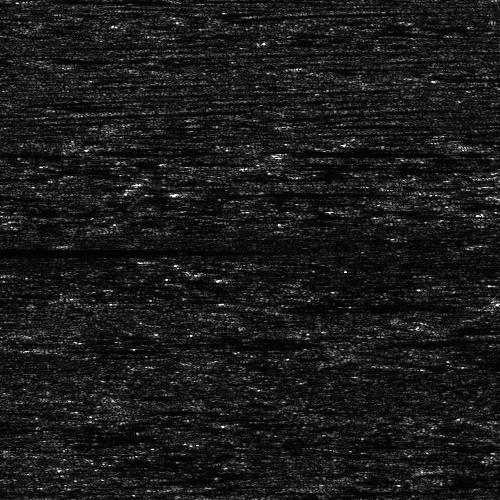rock: (19, 344, 92, 353), (154, 187, 207, 196), (247, 144, 288, 155), (247, 300, 288, 309), (485, 190, 500, 199)
shadow: (0, 246, 330, 253), (268, 144, 444, 155), (268, 300, 440, 309), (181, 187, 352, 196), (56, 344, 162, 353)
